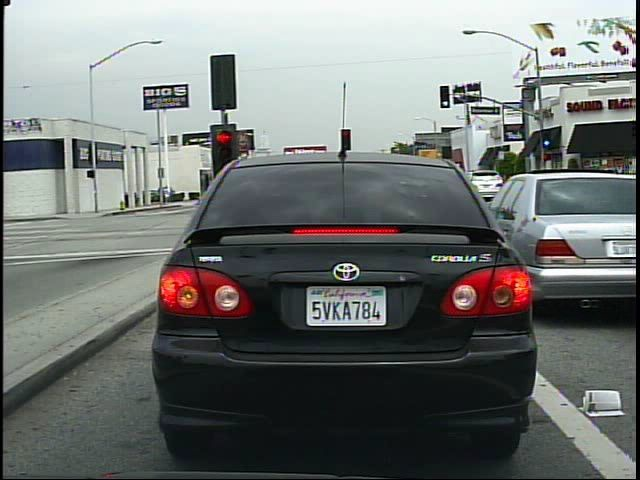person: (518, 168, 532, 201), (164, 184, 172, 207)
